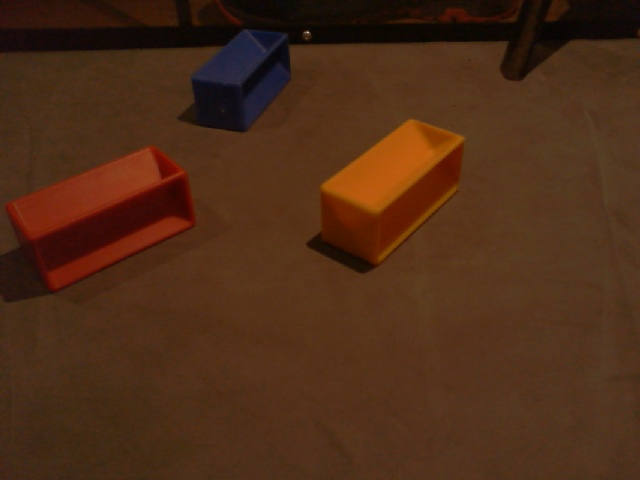BlueSample: (189, 28, 293, 136)
RedSample: (2, 144, 198, 292)
YellowSample: (316, 117, 466, 270)
